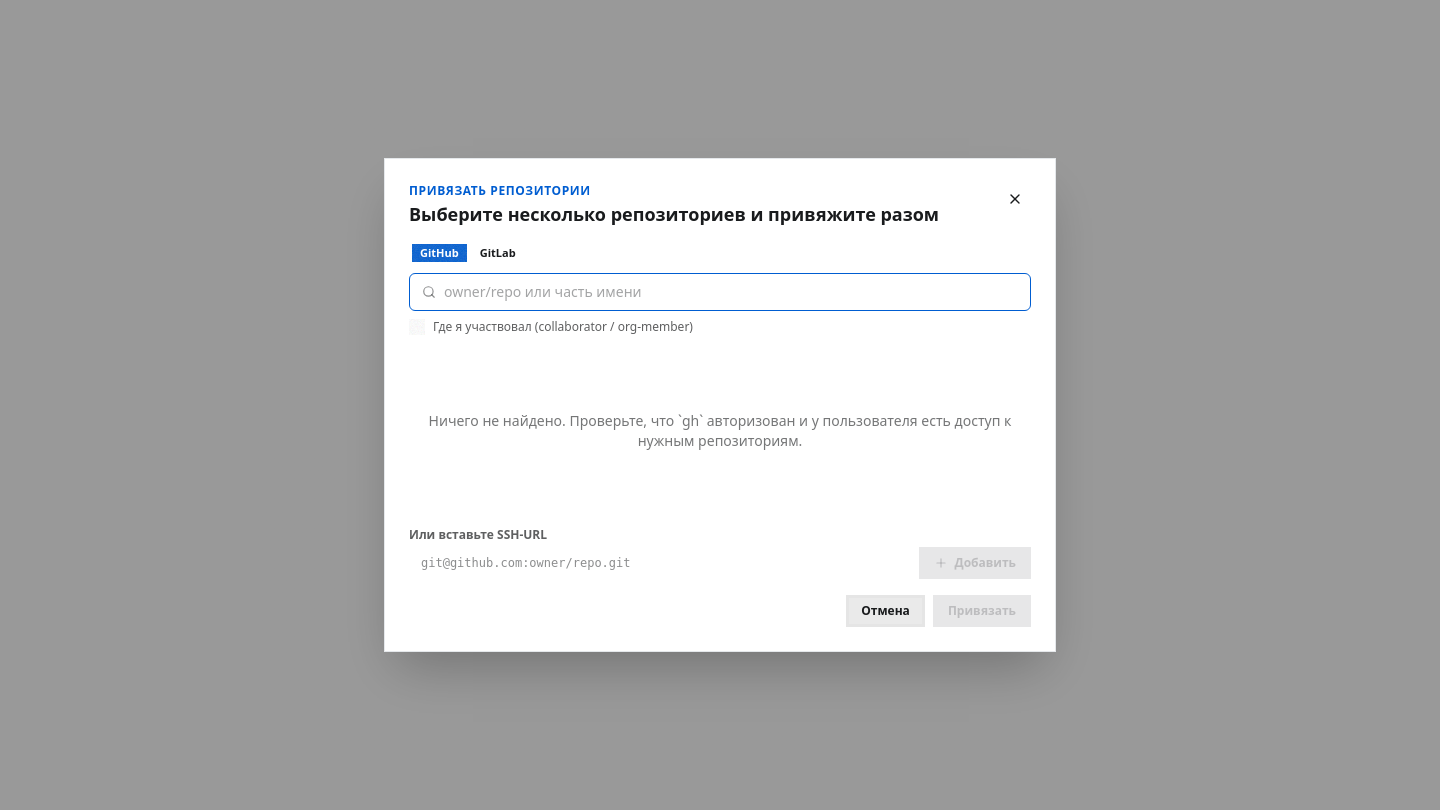
Scenario: BindRepositoryModal (мультивыбор) › малформленный SSH-URL показывает inline-ошибку и не добавляет чип
Type "https://github.com/owner/repo" into the field with test id "repository-picker-ssh-url" at (660,563), box x1=409 y1=547 x2=912 y2=579
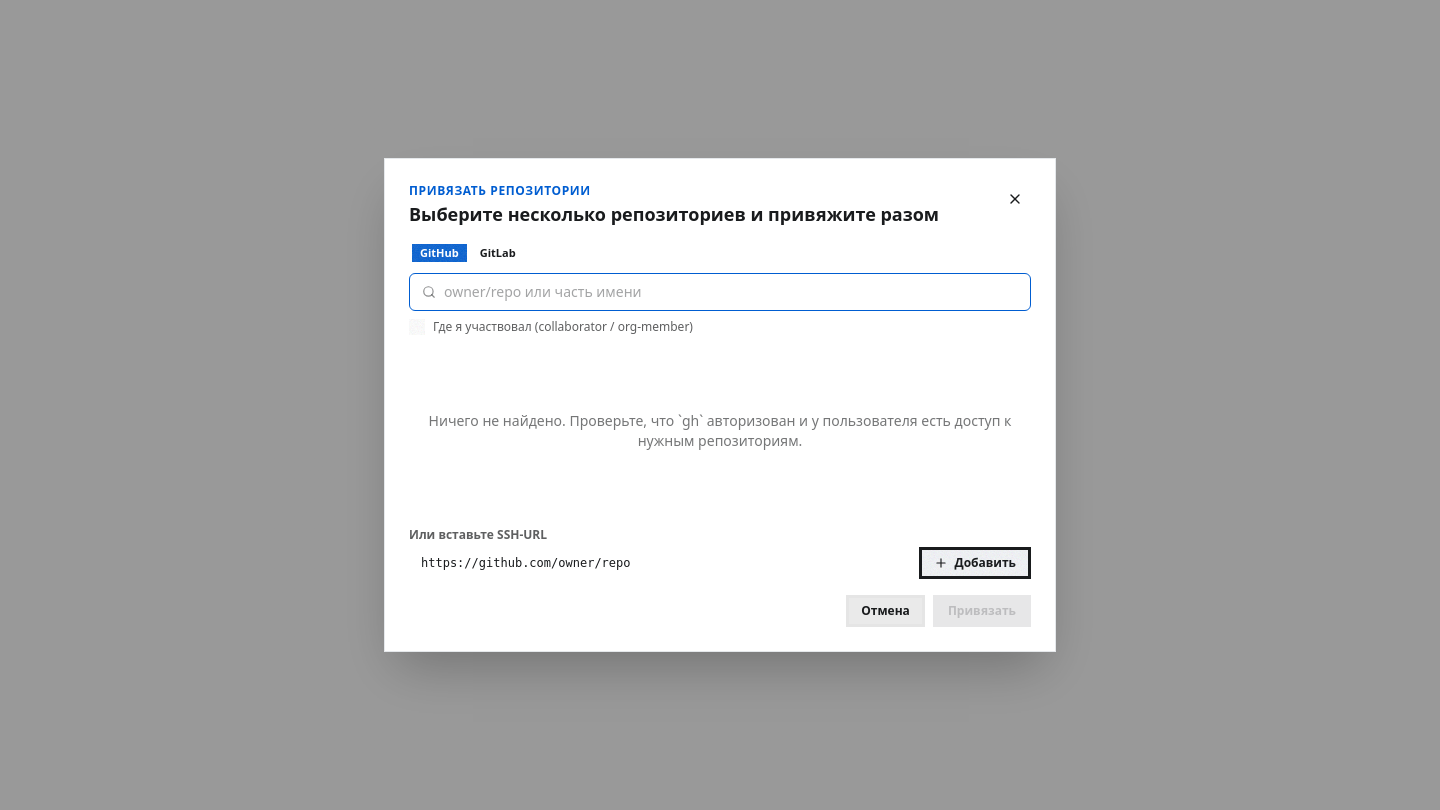
Click the button with test id "repository-picker-ssh-add" at (975,563), box x1=920 y1=547 x2=1031 y2=579
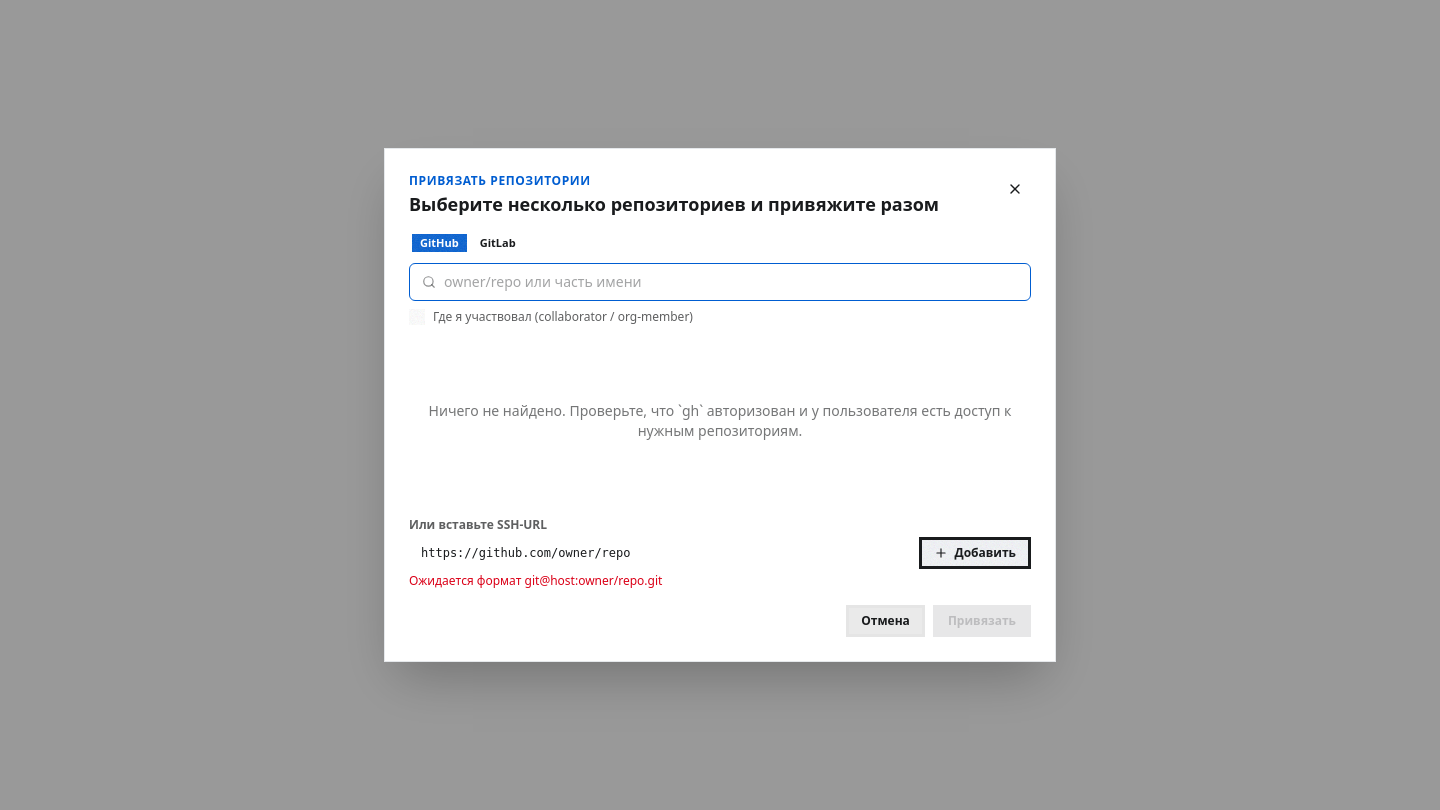
Expected: the message "Ожидается формат git@host:owner/repo.git" is shown, x1=409 y1=572 x2=662 y2=589
